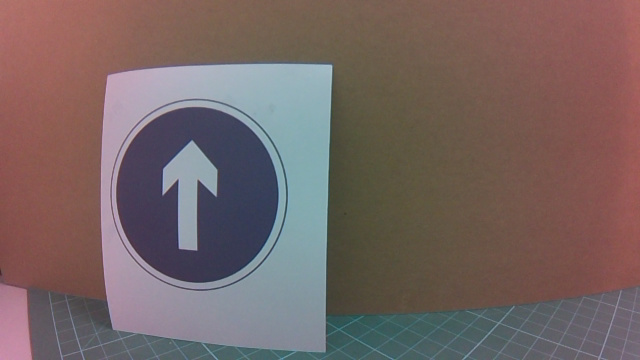forward: (120, 90, 316, 296)
